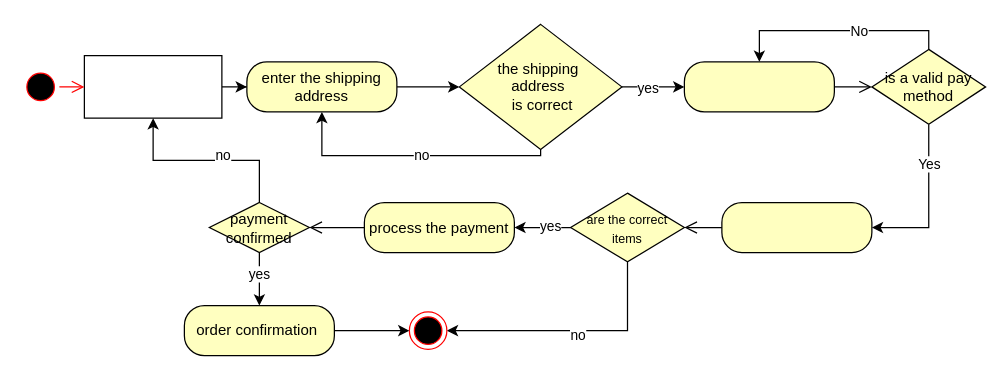
Some shapes in this 1008 by 378 pixel diagram are drawn without their labels. Here are the shapes that lost their labels. From the top down, the centre of each, then its label:
At point 152,86: "payment process started".
At point 758,86: "Select Payment method".
At point 796,226: "Review items and shipping".
